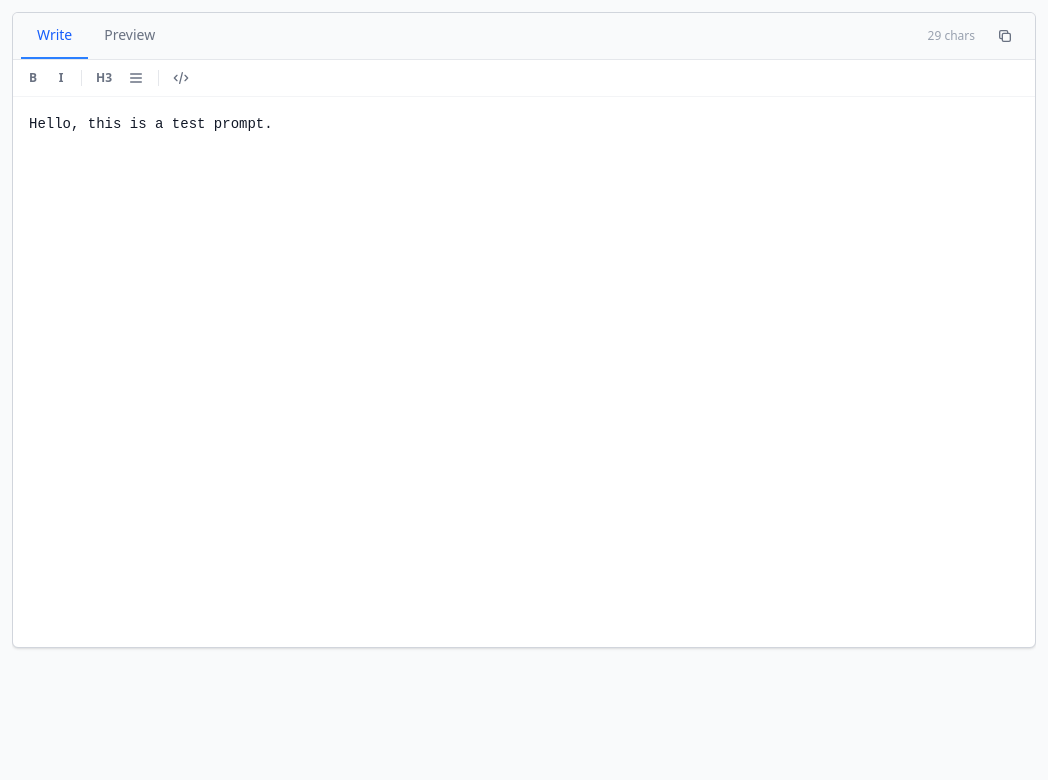
Test: PromptEditor › Toolbar › should hide toolbar in Preview mode
The image size is (1048, 780).
Click the button "Preview" at (130, 36), box [88,13,171,59]
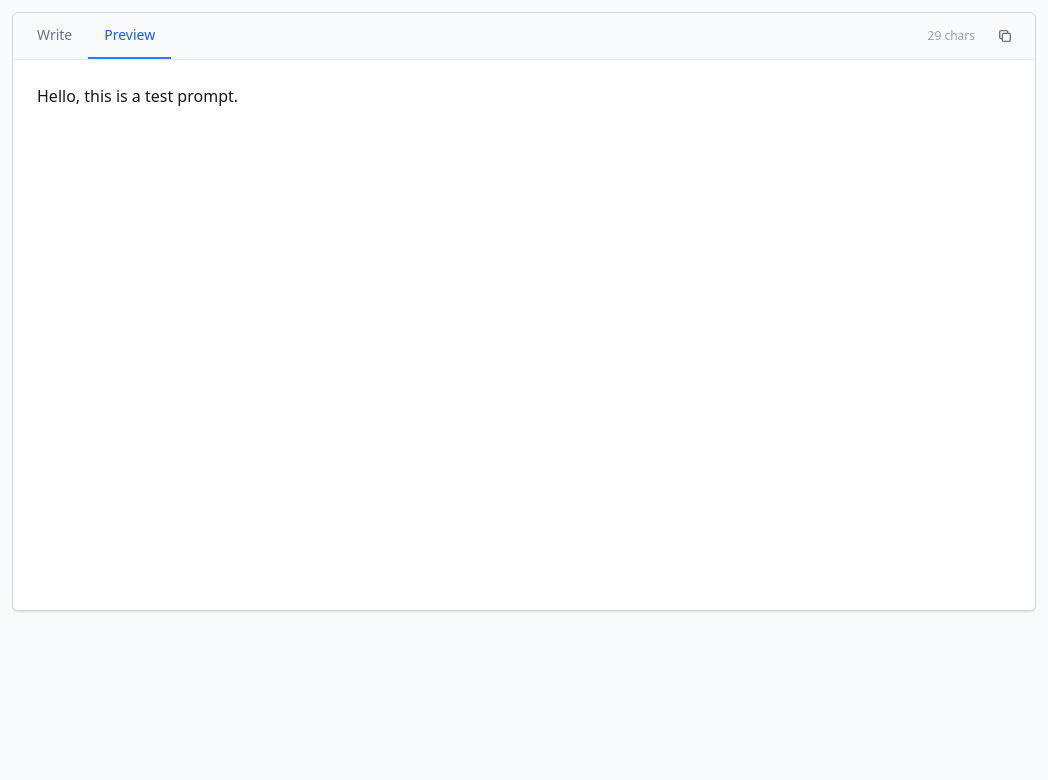
Now the button titled "Bold" is gone
